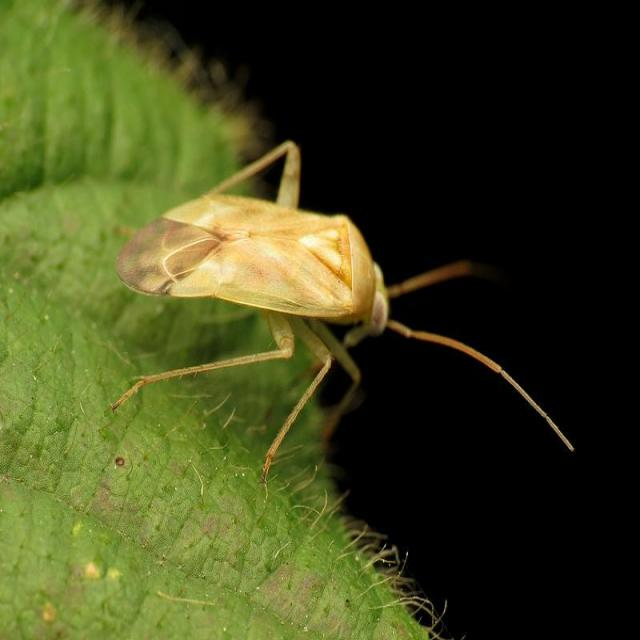Miridae-Adult-: (112, 138, 496, 491)
